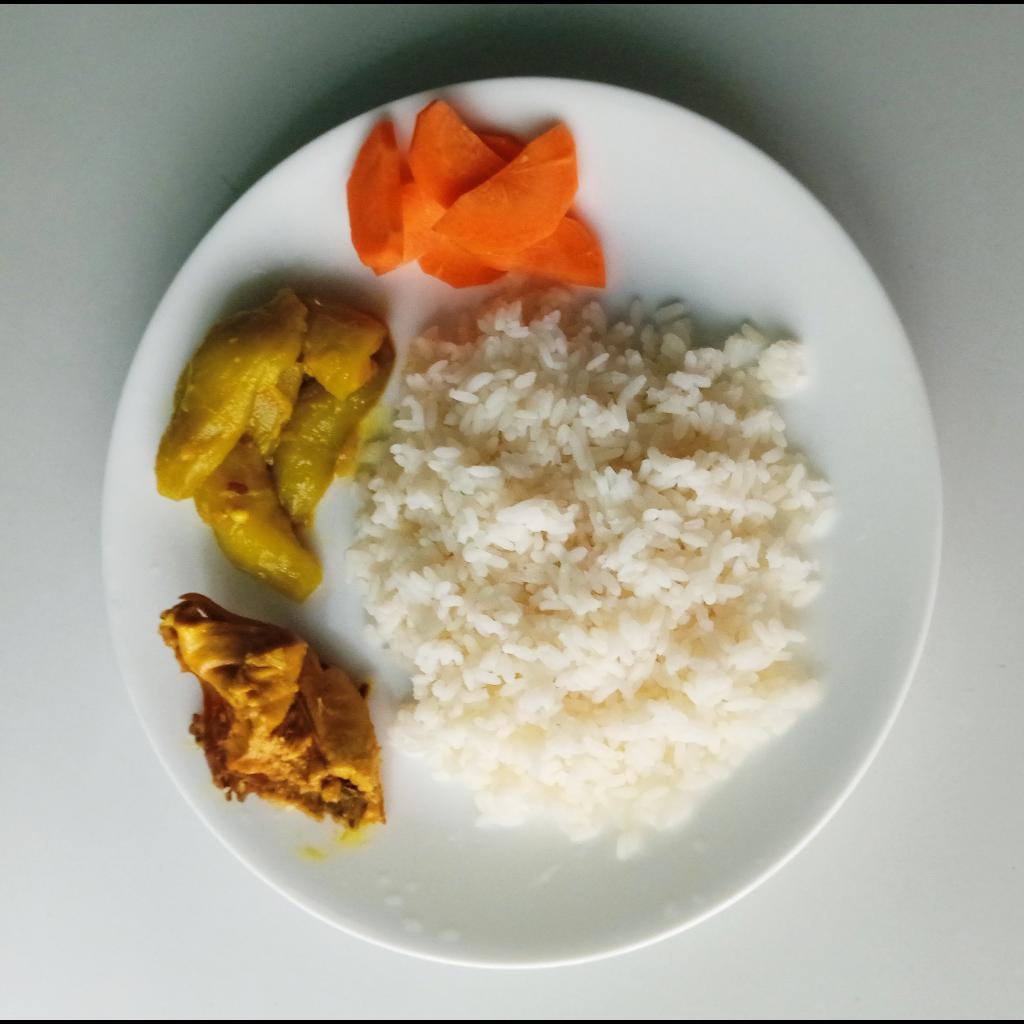carrot: (346, 100, 609, 291)
chicken: (157, 592, 383, 847)
potol: (149, 290, 401, 605)
rice: (341, 288, 841, 863)
